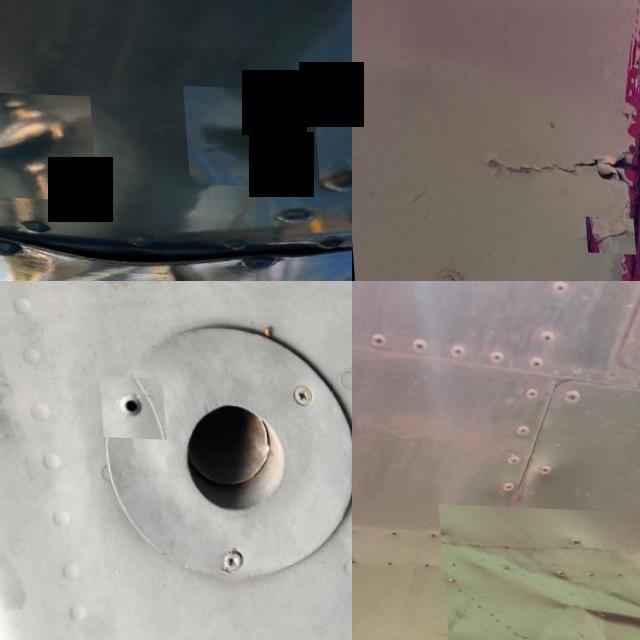Crack: (470, 136, 640, 198), (582, 214, 632, 252)
Dent: (434, 501, 640, 640), (180, 82, 316, 185), (0, 89, 92, 198)
Missing_Fastener: (94, 374, 160, 437)
